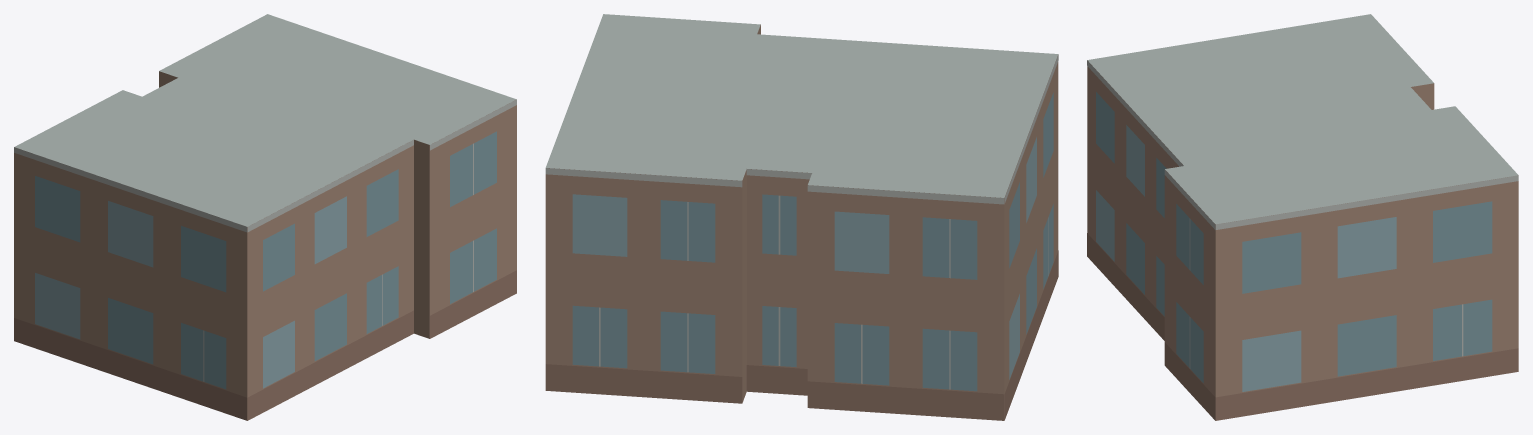
Rendered from survey-upis-32856602.glb.
3 views of the same model, side by side, from view 1: azimuth 30°, elevation 25°; view 2: azimuth 150°, elevation 25°; view 3: azimuth 270°, elevation 25° (orthographic). The views are drawn at different scales.
Visible parts, largest first — view 1: survey-upis-32856602.tmp; view 2: survey-upis-32856602.tmp; view 3: survey-upis-32856602.tmp.
Boxes of the visible parts, <box> form: survey-upis-32856602.tmp: <box>14,14,516,420</box>; survey-upis-32856602.tmp: <box>545,14,1058,420</box>; survey-upis-32856602.tmp: <box>1087,14,1518,420</box>.
Bounding box in the file's own units: 19.22 × 8.36 × 16.65.
